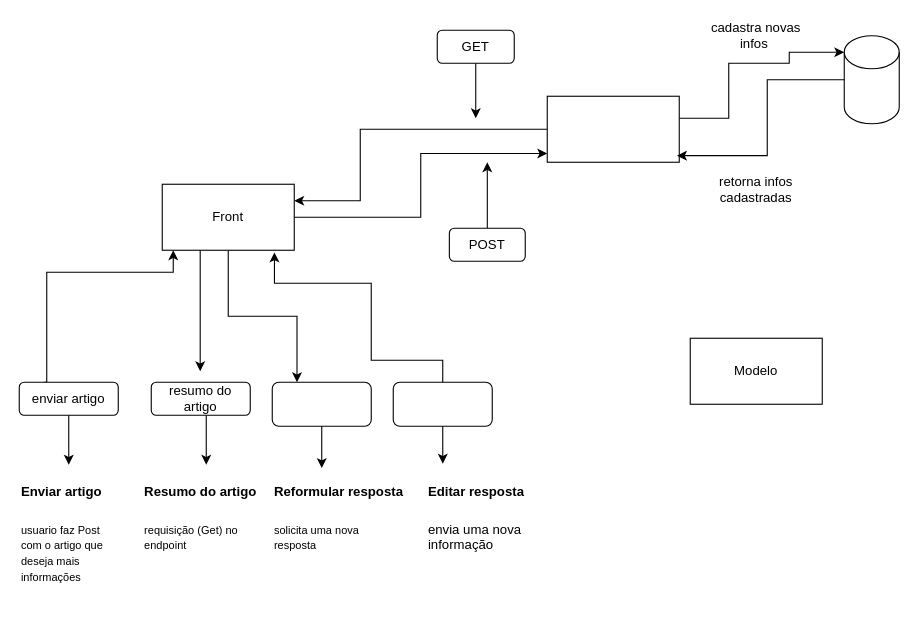
Some shapes in this 919 by 618 pixel diagram are drawn without their labels. The shapes that lost their labels are listed below. From the top down, each one's centre as x and y in pixels, then its label:
At (612,128): "API backend".
At (321,403): "reformular resposta".
At (442,403): "editar resposta".
